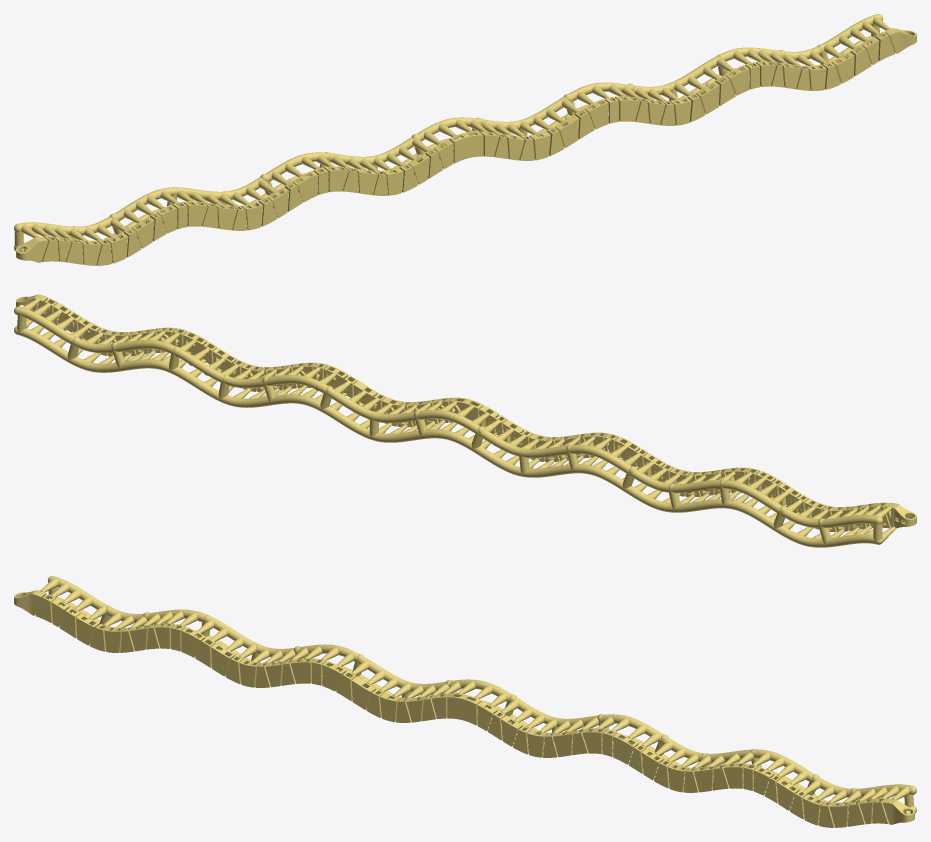
File: sss.glb
The picture shows the model from 3 angles, top to bottom: view 1: azimuth 30°, elevation 25°; view 2: azimuth 150°, elevation 25°; view 3: azimuth 330°, elevation 25°; orthographic projection.
Visible parts, largest first — view 1: Renderer Node; view 2: Renderer Node; view 3: Renderer Node.
Part boxes in pixels (x1,y1,x2,y2): Renderer Node: (14, 14, 916, 265); Renderer Node: (14, 294, 916, 547); Renderer Node: (14, 576, 916, 827).
Size of the model in its own units: 172 by 8.52 by 7.99.
